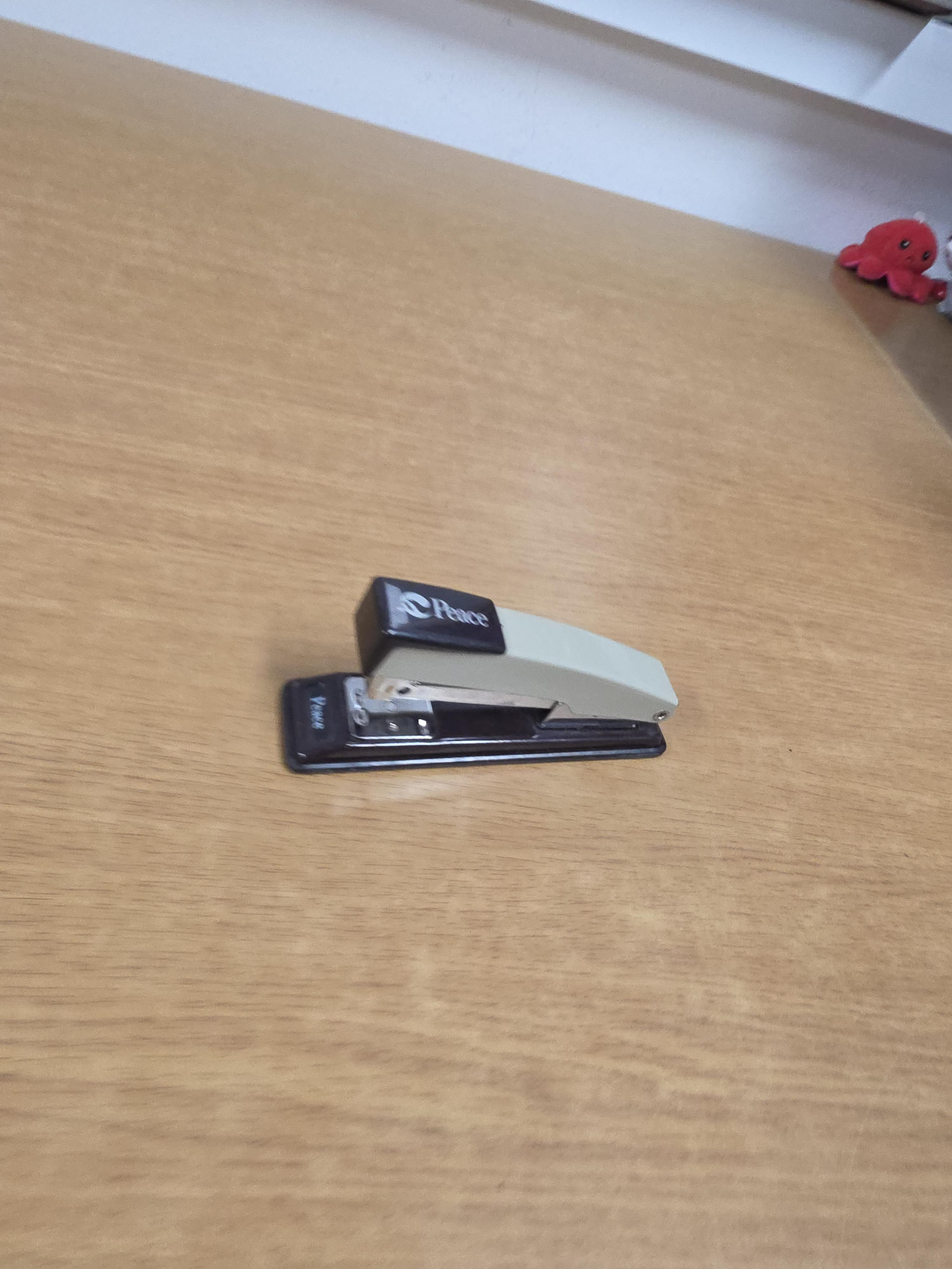stapler: (280, 575, 679, 774)
